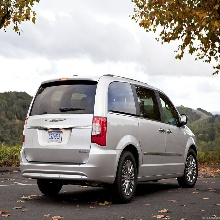no damage: (19, 73, 199, 203)
